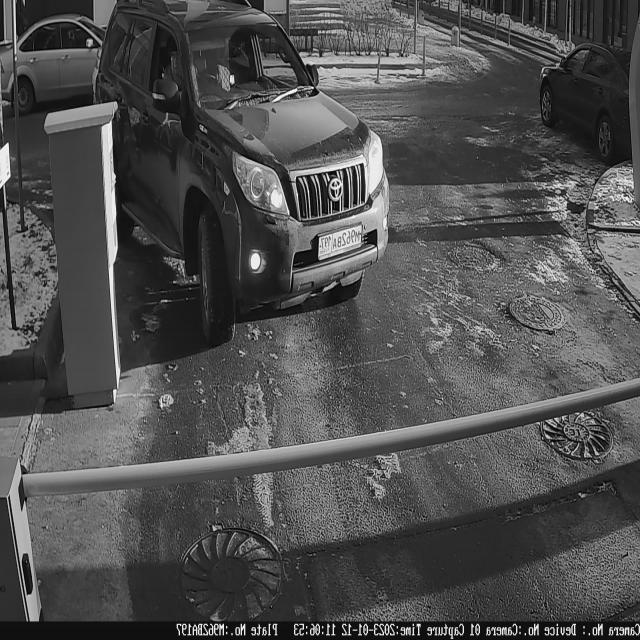car-plate-numbers: (313, 216, 368, 267)
